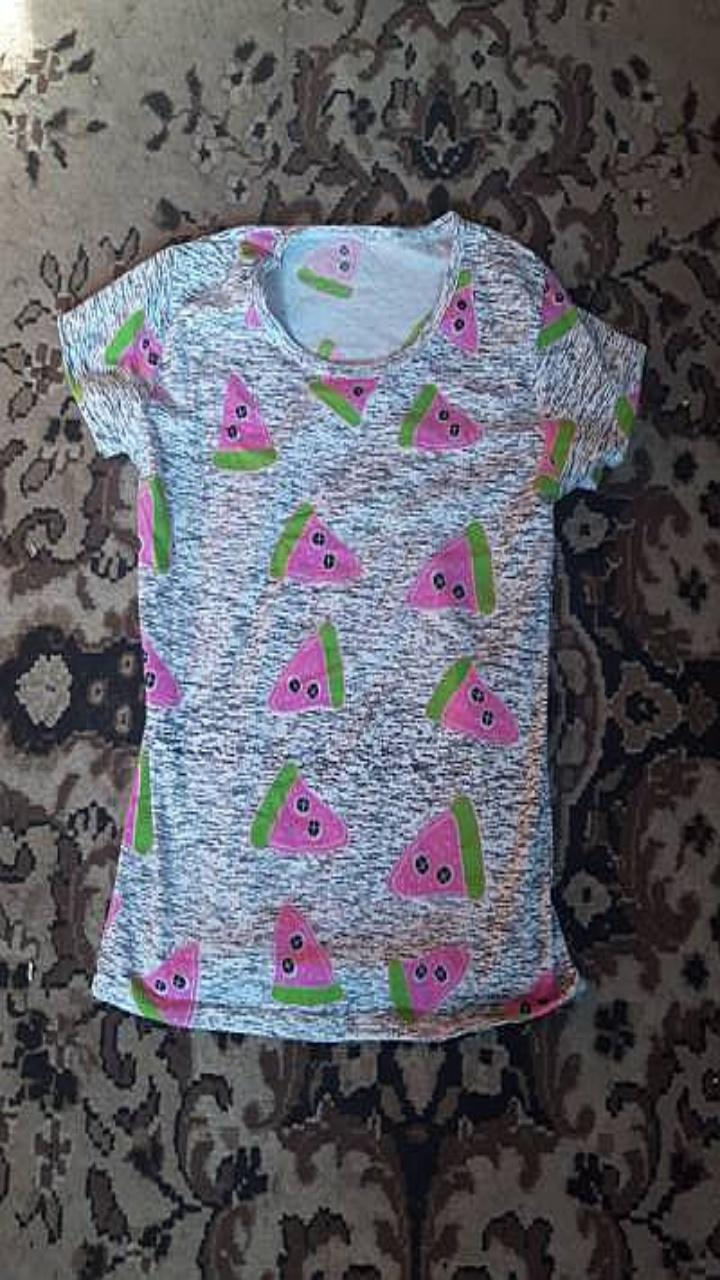T-Shirt: (58, 212, 645, 1040)
